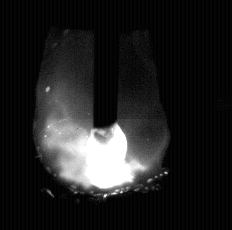arame: (94, 0, 119, 129)
poca: (34, 0, 169, 230)
